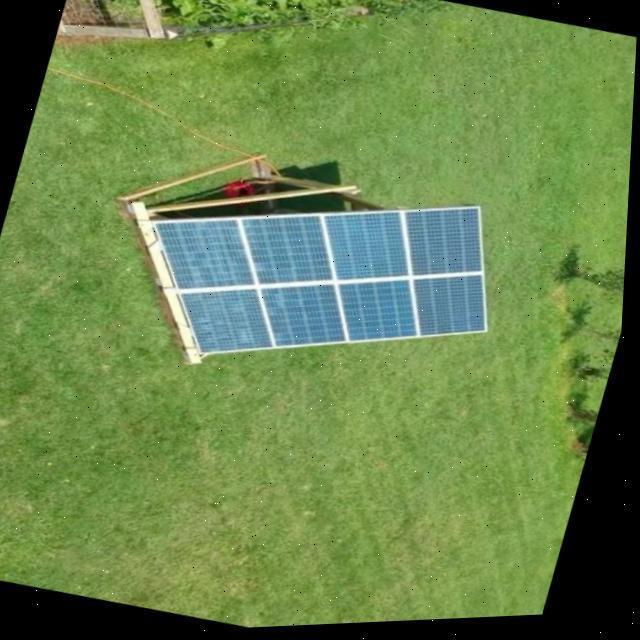Normal Solar Panel: (114, 136, 522, 420)
